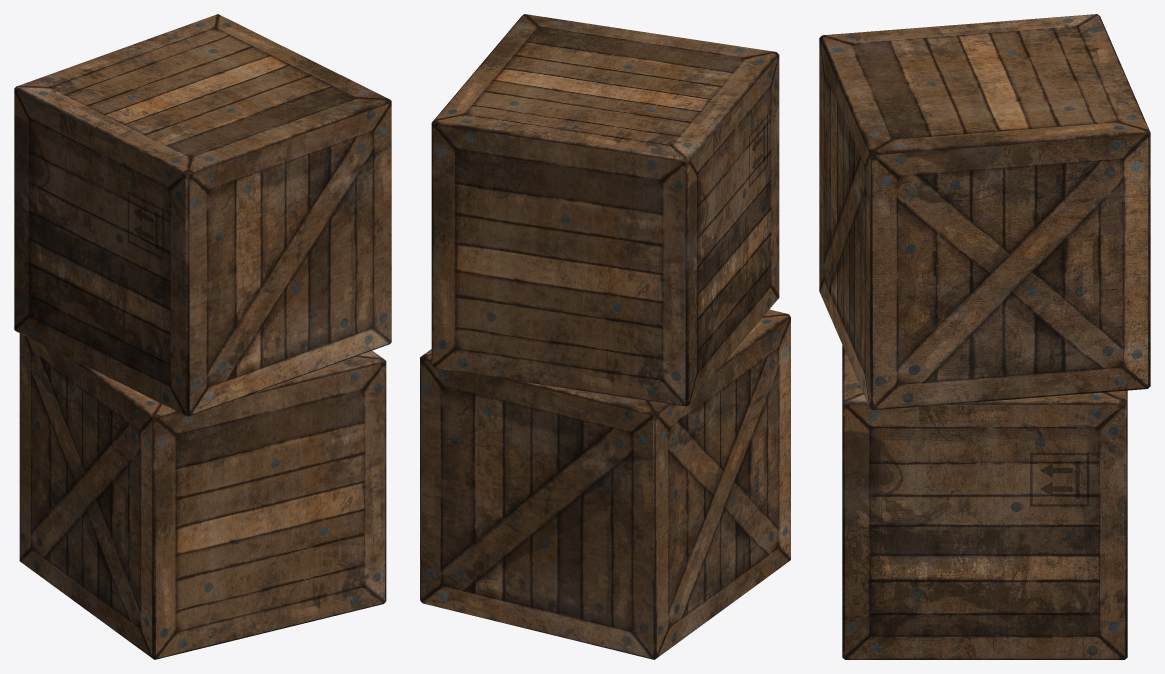
File: crates.glb
The picture shows the model from 3 angles, left to right: view 1: azimuth 30°, elevation 25°; view 2: azimuth 150°, elevation 25°; view 3: azimuth 270°, elevation 25°; orthographic projection. The views are drawn at different scales.
Visible parts, largest first — view 1: Cube.001, Cube; view 2: Cube.001, Cube; view 3: Cube.001, Cube.
Part boxes in pixels (box(x1,y1,x2,y2)): Cube.001: box(14, 14, 391, 416); Cube: box(19, 333, 386, 659); Cube.001: box(431, 14, 779, 406); Cube: box(420, 309, 790, 659); Cube.001: box(819, 14, 1150, 410); Cube: box(842, 345, 1127, 659).
Bounding box in the file's own units: 2.32 × 4.01 × 2.32.
Materials: 1 (1 with a texture image).
